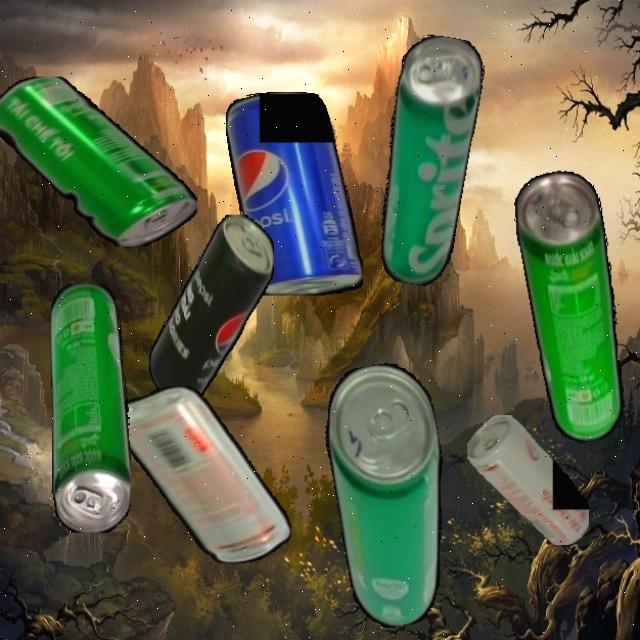debris: (315, 357, 469, 633), (508, 166, 640, 447), (0, 75, 197, 246), (111, 386, 292, 564), (365, 31, 489, 289), (226, 91, 363, 295), (148, 214, 274, 404), (50, 283, 131, 533), (466, 415, 589, 545)
